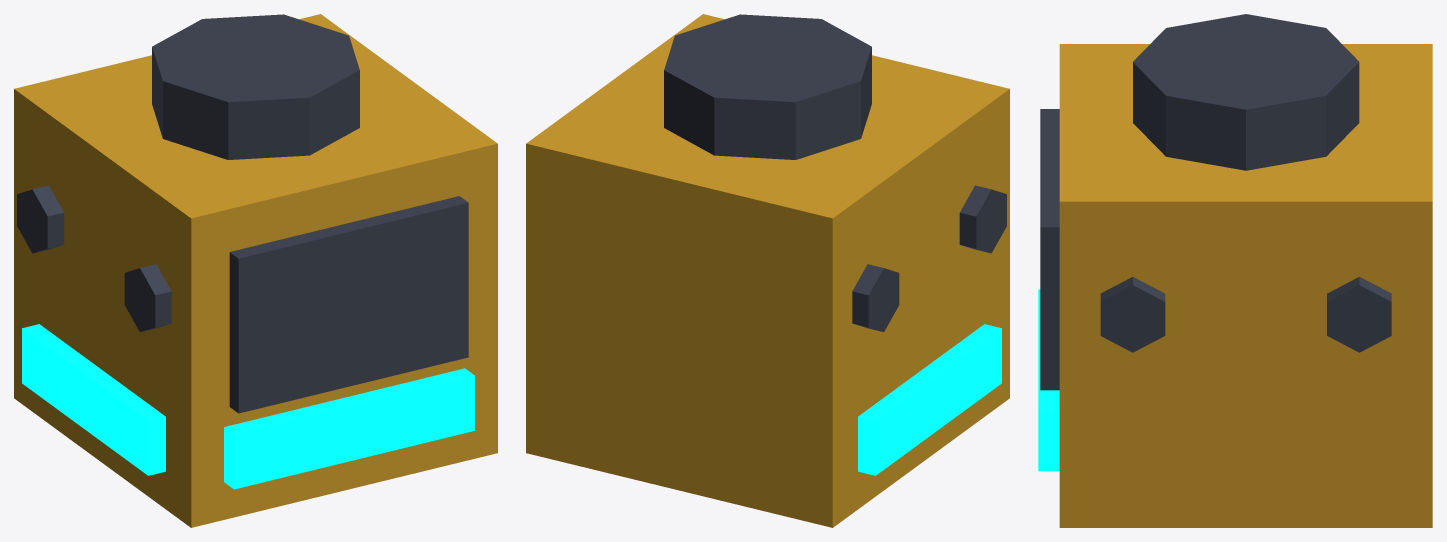
Rendered from Piece3.fbx.
3 renders of one model, left to right at view 1: azimuth 30°, elevation 25°; view 2: azimuth 150°, elevation 25°; view 3: azimuth 270°, elevation 25°, orthographic. The views are drawn at different scales.
Parts seen in each view (by area): view 1: SM_Piece3_MAT_Gold, SM_Piece3_MAT_HullDark, SM_Piece3_MAT_GlowCyan; view 2: SM_Piece3_MAT_Gold, SM_Piece3_MAT_HullDark, SM_Piece3_MAT_GlowCyan; view 3: SM_Piece3_MAT_Gold, SM_Piece3_MAT_HullDark, SM_Piece3_MAT_GlowCyan.
Part boxes in pixels (left/top/right/bottom): SM_Piece3_MAT_Gold: left=14, top=14, right=497, bottom=527; SM_Piece3_MAT_HullDark: left=17, top=14, right=468, bottom=413; SM_Piece3_MAT_GlowCyan: left=22, top=324, right=474, bottom=489; SM_Piece3_MAT_Gold: left=526, top=14, right=1009, bottom=527; SM_Piece3_MAT_HullDark: left=664, top=14, right=1006, bottom=331; SM_Piece3_MAT_GlowCyan: left=858, top=324, right=1001, bottom=475; SM_Piece3_MAT_Gold: left=1059, top=44, right=1432, bottom=527; SM_Piece3_MAT_HullDark: left=1040, top=14, right=1391, bottom=390; SM_Piece3_MAT_GlowCyan: left=1038, top=289, right=1059, bottom=471.
Bounding box in the file's own units: 0.8708 × 0.8974 × 0.8288.
